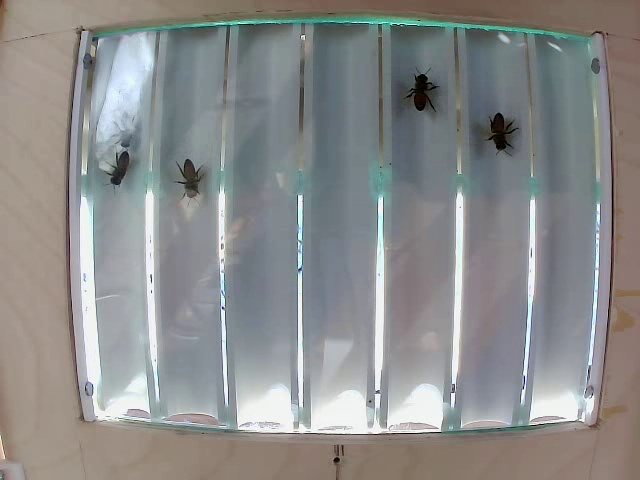bee: (95, 147, 152, 201), (401, 58, 445, 122), (480, 103, 516, 161), (176, 164, 210, 205)
